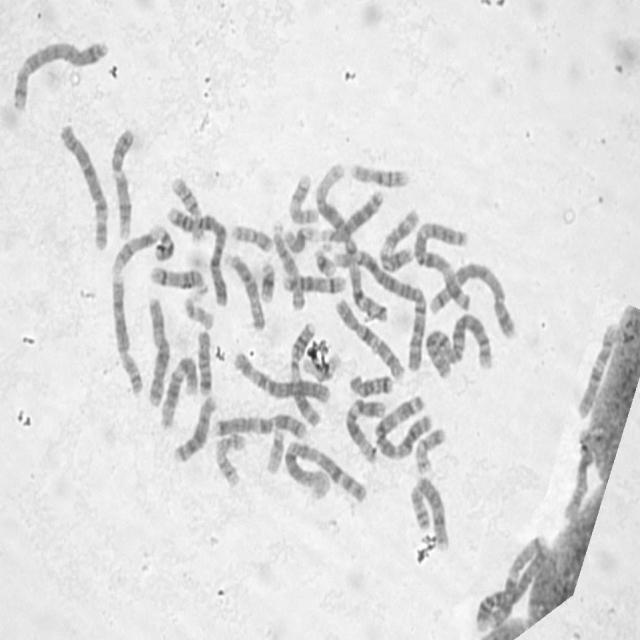A1: (311, 156, 390, 328), (281, 436, 368, 504)
A2: (331, 242, 428, 376), (422, 307, 496, 382)
A3: (412, 215, 474, 314), (369, 391, 432, 463)
B4: (473, 531, 551, 635), (164, 202, 230, 308)
B5: (10, 35, 111, 113), (425, 260, 517, 340)
C10: (333, 295, 407, 381), (575, 318, 621, 420)
C11: (287, 318, 323, 428), (376, 206, 420, 274)
C12: (158, 352, 200, 430), (342, 394, 388, 464)
C6: (56, 119, 110, 254), (230, 345, 333, 407)
C7: (473, 531, 551, 635), (208, 409, 309, 440)
C8: (108, 270, 145, 398), (411, 473, 451, 553)
C9: (108, 221, 176, 275), (108, 124, 136, 244)
D13: (316, 186, 384, 245), (171, 391, 219, 466)
D14: (147, 262, 211, 296), (280, 269, 349, 295)
D15: (222, 246, 268, 333), (268, 217, 306, 312)
E16: (168, 174, 206, 244), (347, 158, 411, 190)
E17: (211, 429, 248, 489), (286, 169, 320, 226)
E18: (346, 370, 395, 398), (195, 327, 214, 397)
F19: (302, 337, 339, 383), (282, 221, 323, 255)
F20: (412, 424, 448, 476), (228, 218, 275, 254)
G21: (311, 242, 337, 278), (257, 256, 276, 304)
G22: (181, 292, 216, 331), (263, 424, 286, 476)
X: (561, 428, 596, 524), (143, 292, 171, 408)
